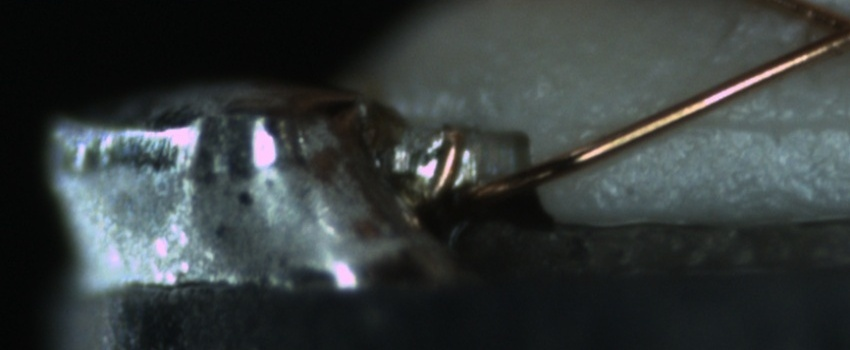CL: (794, 0, 850, 64)
DL: (686, 92, 849, 156)
TE: (419, 115, 470, 225)
